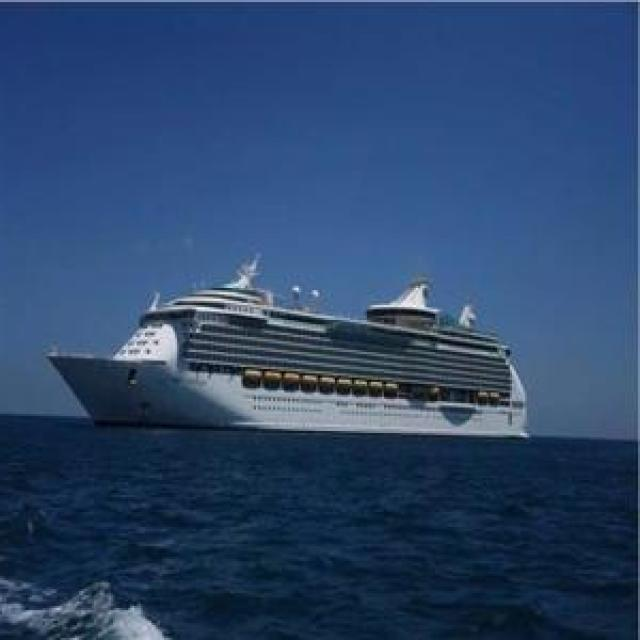passenger ship: (32, 266, 561, 454)
